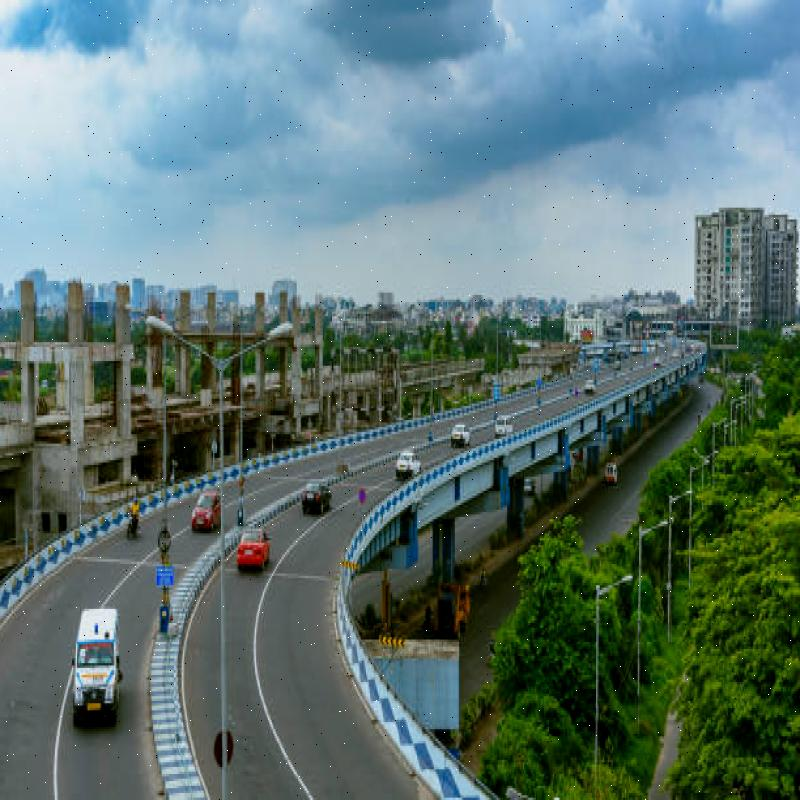car: (66, 602, 121, 703), (220, 518, 267, 578), (295, 482, 341, 526), (190, 473, 220, 534), (390, 443, 435, 474), (448, 418, 477, 461)
